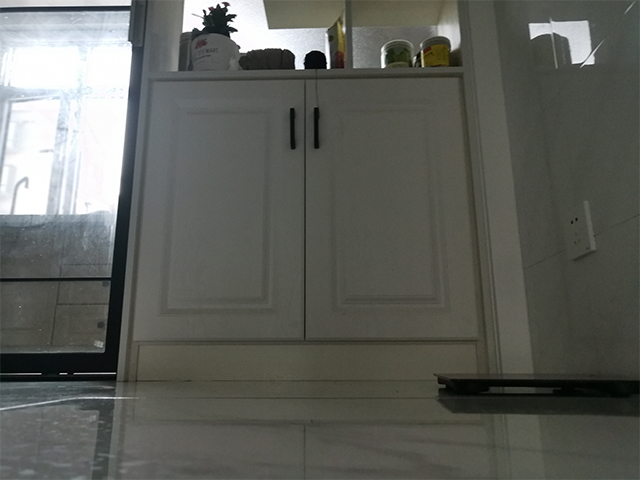cabinet: (115, 65, 508, 385)
